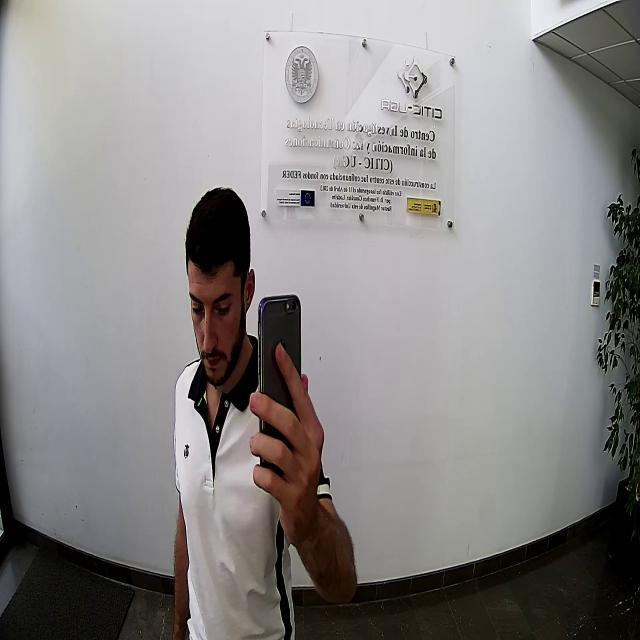phone: (258, 294, 302, 448)
